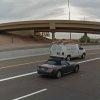Bridge: (1, 8, 96, 40)
